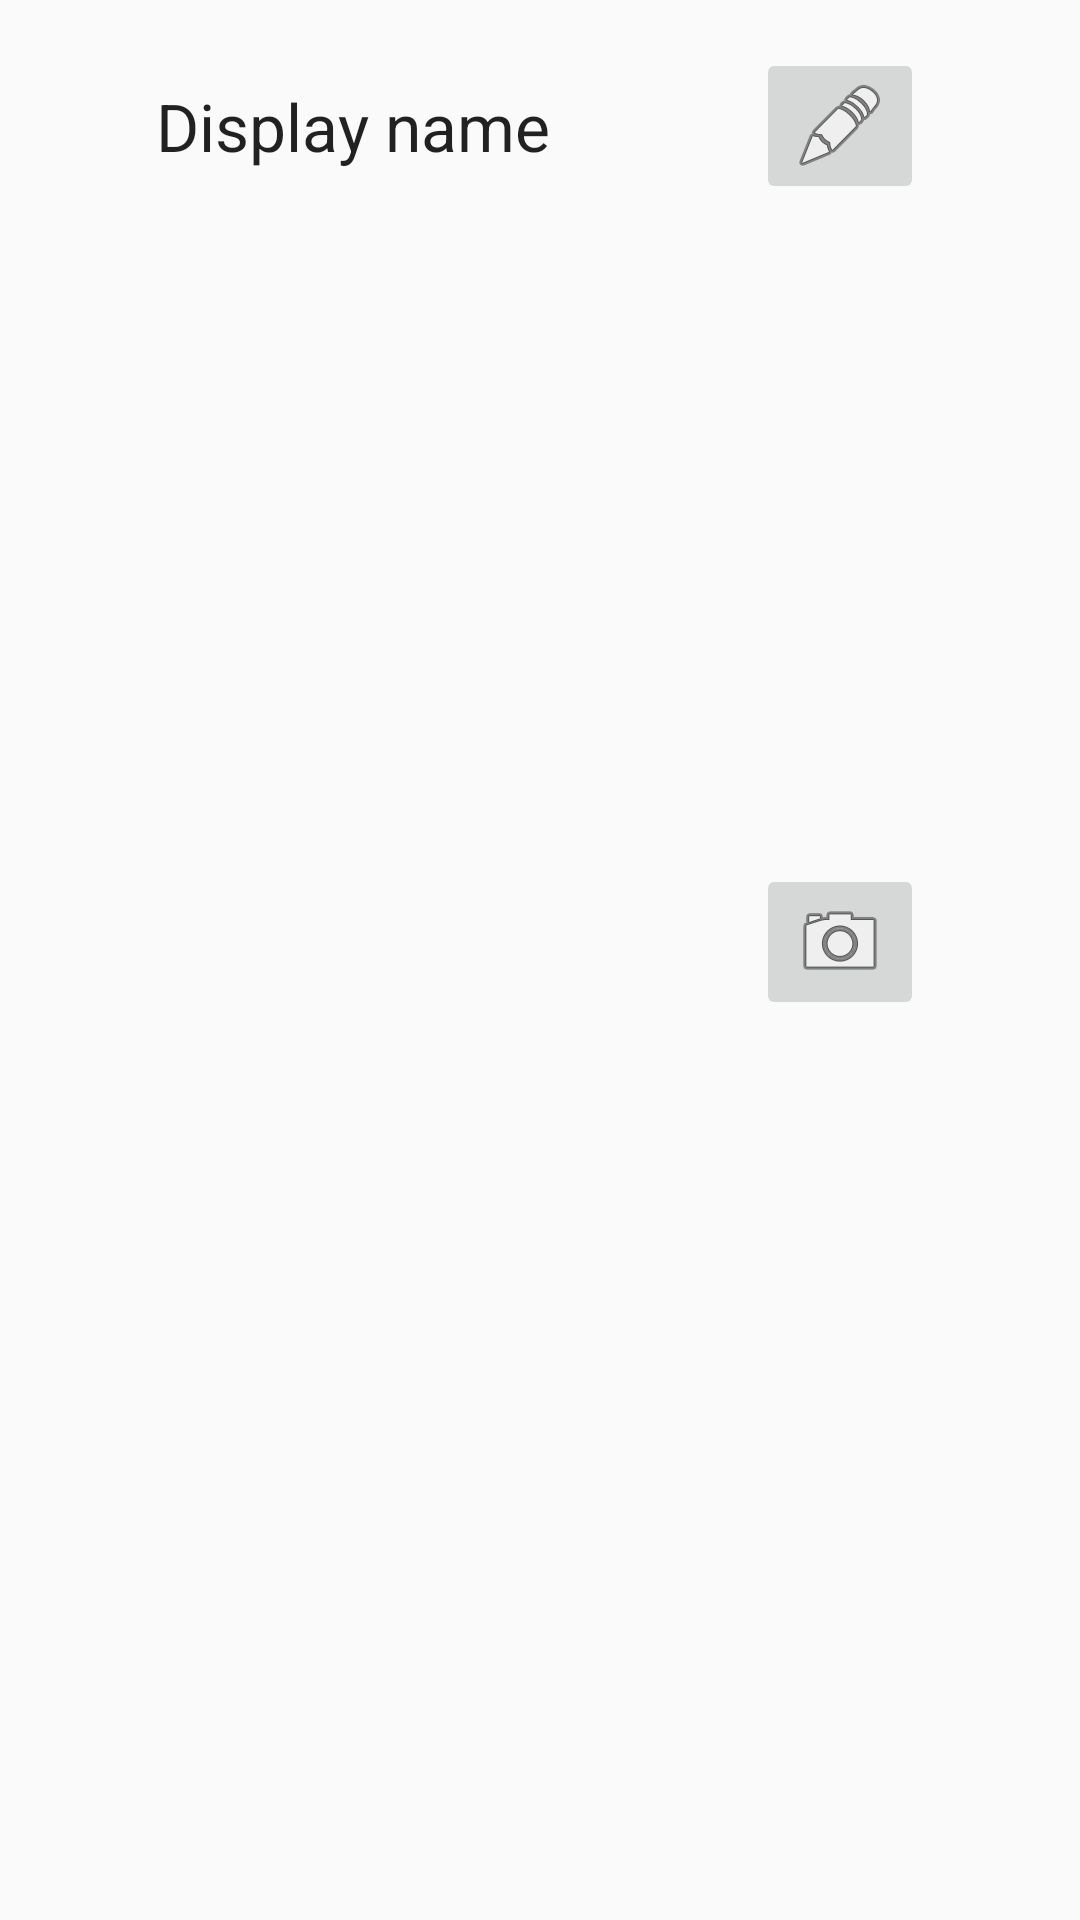

Screen size 1080px×1920px. Icon name, then its box in pixels as (x1, y1, x2, y2):
camera: (768, 882, 912, 1002)
edit: (768, 66, 912, 186)
